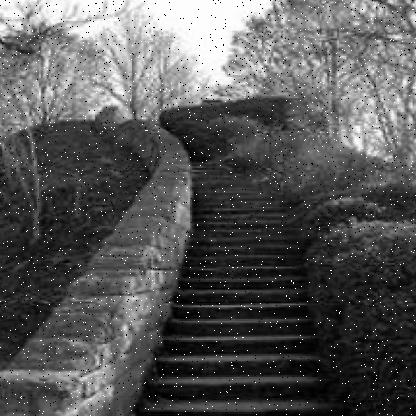stair_up: (157, 268, 314, 412)
